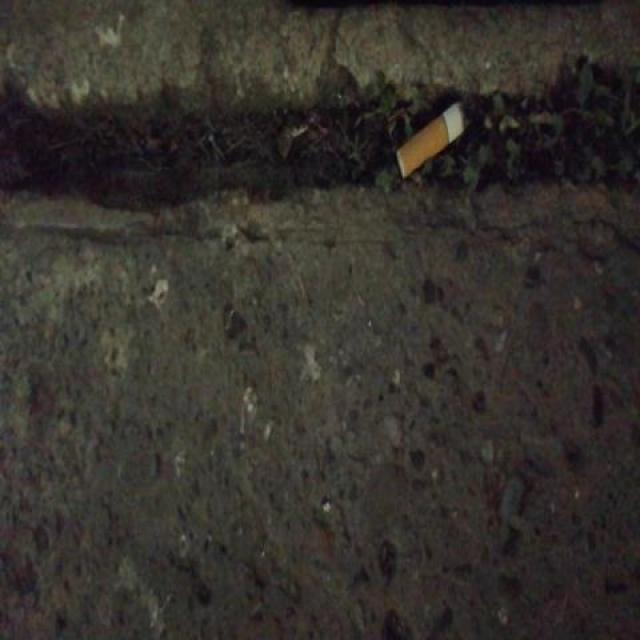non-organic waste: (392, 97, 475, 184)
